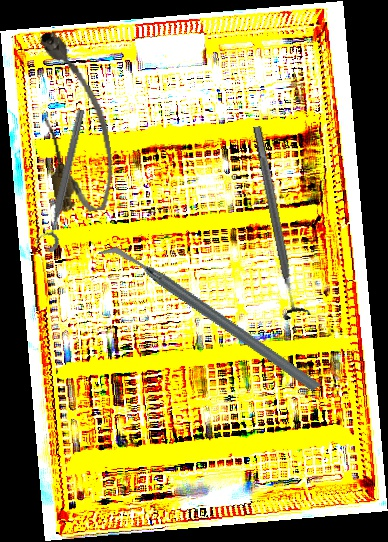Cannula: (29, 26, 120, 217)
Chopper: (98, 189, 322, 449)
Fixation Ring: (242, 123, 313, 321), (32, 106, 90, 254)
